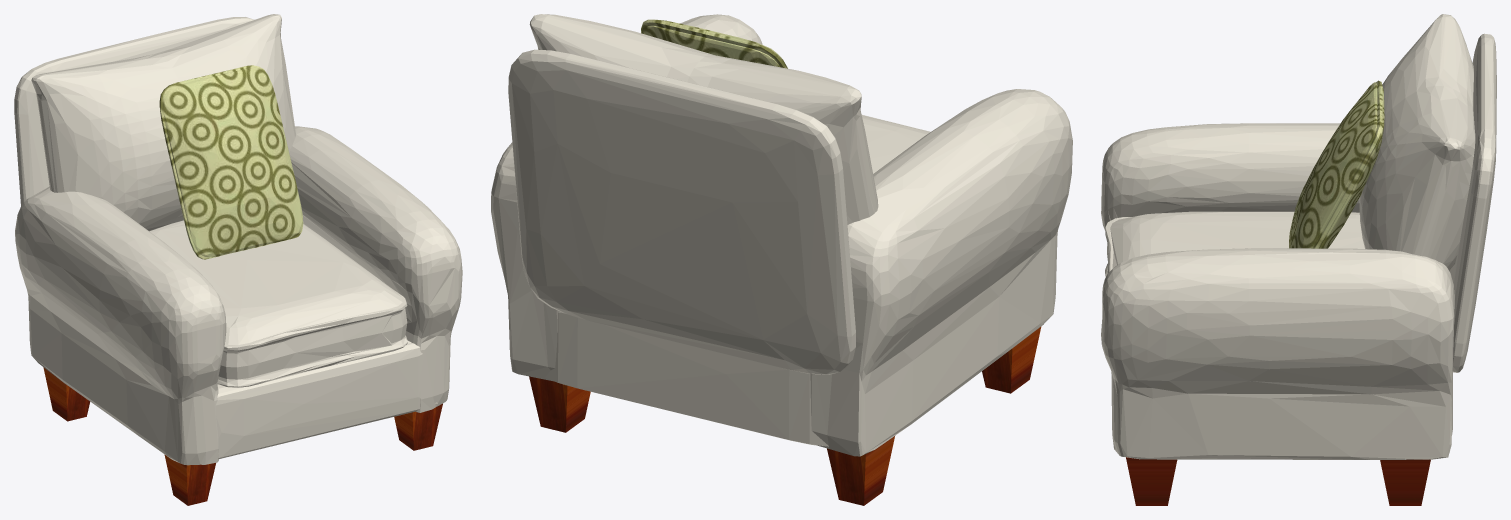
Rendered from sh-contrib-single-chair.glb.
3 renders of one model, left to right at view 1: azimuth 30°, elevation 25°; view 2: azimuth 150°, elevation 25°; view 3: azimuth 270°, elevation 25°, orthographic. The views are drawn at different scales.
Visible parts, largest first — view 1: PolyMesh_2, PolyMesh_2_1, PolyMesh_5; view 2: PolyMesh_2, PolyMesh_5, PolyMesh_2_1; view 3: PolyMesh_2, PolyMesh_2_1, PolyMesh_5.
Part boxes in pixels (x1=…): PolyMesh_2: x1=14, y1=14, x2=462, y2=465; PolyMesh_2_1: x1=159, y1=65, x2=303, y2=259; PolyMesh_5: x1=43, y1=367, x2=442, y2=505; PolyMesh_2: x1=491, y1=14, x2=1072, y2=456; PolyMesh_5: x1=529, y1=326, x2=1041, y2=505; PolyMesh_2_1: x1=641, y1=19, x2=787, y2=68; PolyMesh_2: x1=1101, y1=14, x2=1496, y2=459; PolyMesh_2_1: x1=1289, y1=80, x2=1384, y2=248; PolyMesh_5: x1=1126, y1=457, x2=1430, y2=505.
Size of the model in its own units: 0.9992 by 1 by 0.9998.
3 materials, 2 textured.
